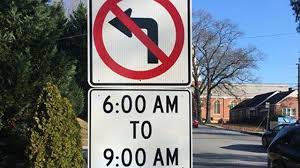No_left_turn: (94, 1, 184, 79)
